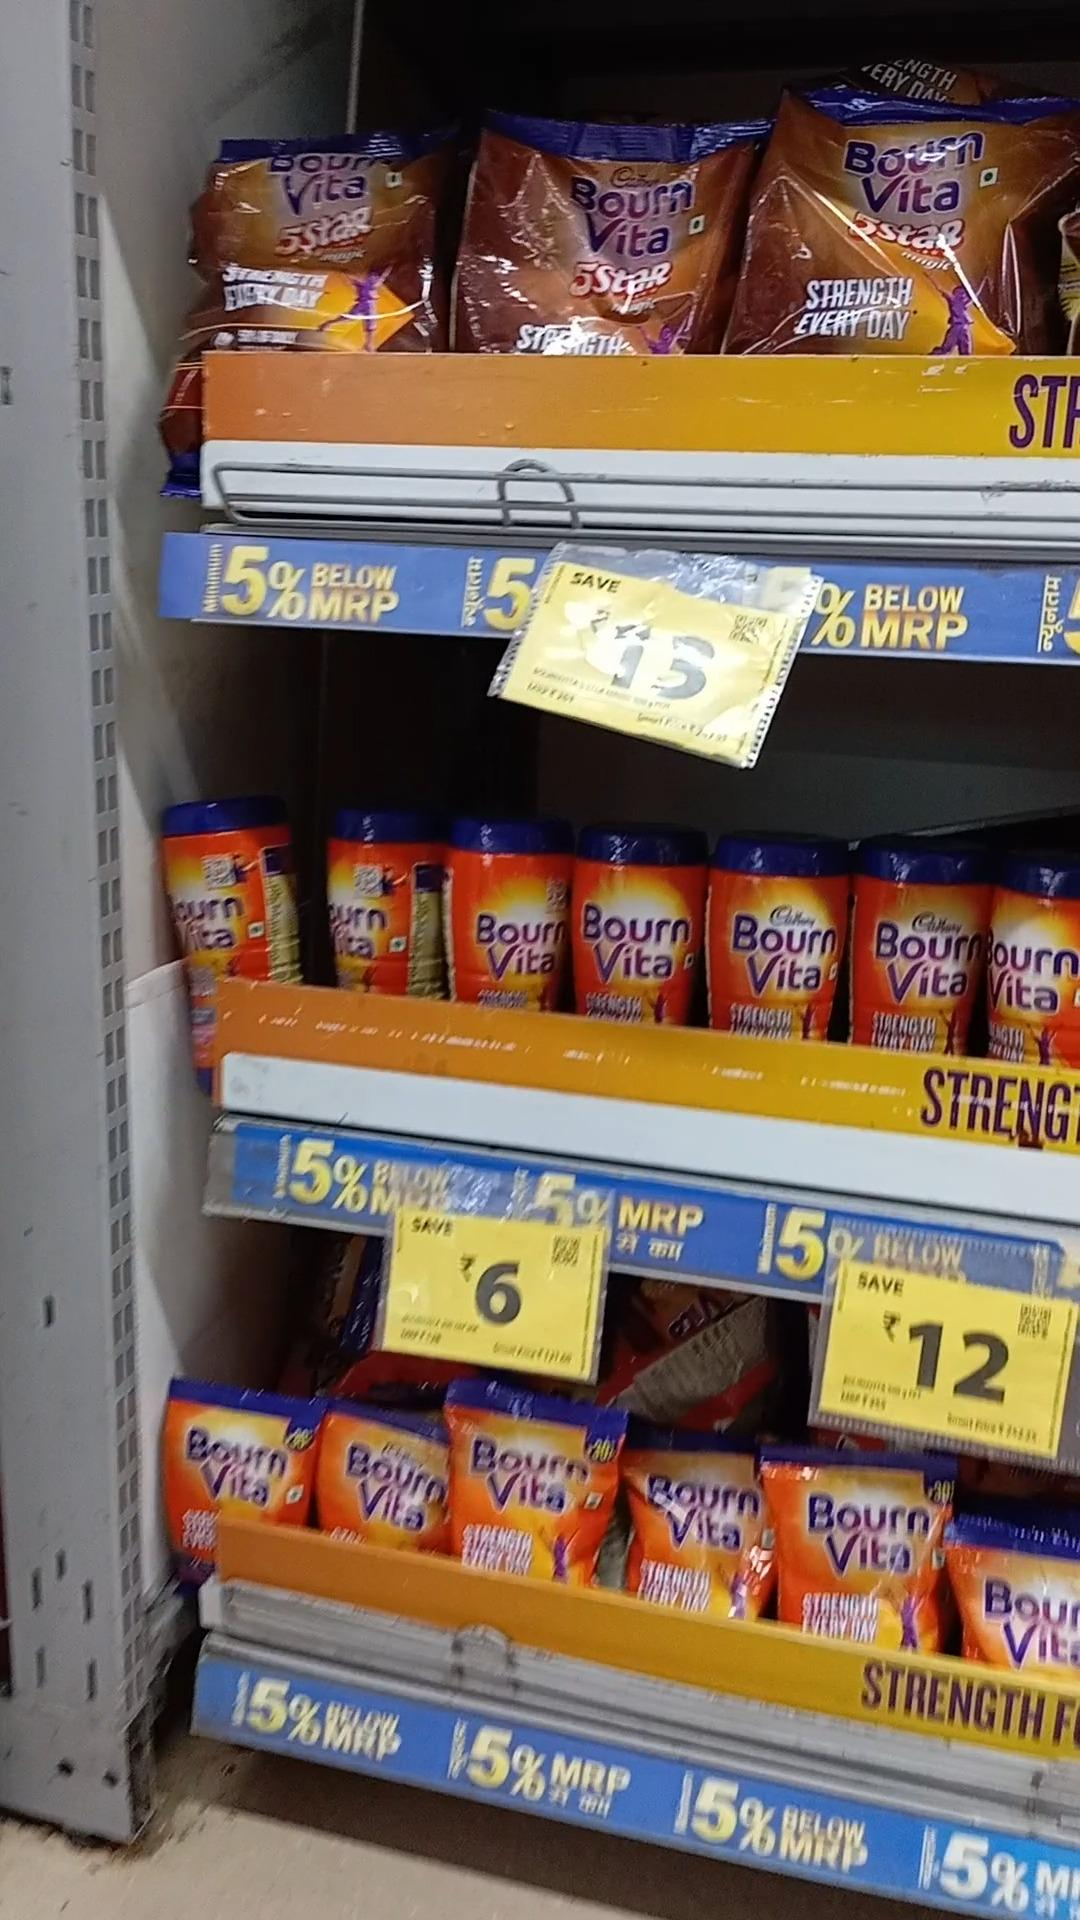BOURN_VITA_200_G_JAR: (713, 828, 845, 1035), (157, 803, 253, 1075), (858, 840, 981, 1052), (572, 828, 699, 1022), (463, 816, 568, 1013), (985, 857, 1080, 1064), (323, 810, 407, 996)
BOURN_VITA_75_G_POUCH: (774, 1458, 947, 1656), (450, 1393, 605, 1598), (629, 1427, 765, 1617), (166, 1387, 305, 1530), (315, 1402, 444, 1548)
BOURN_VITA_FIVE_STAR_MAGIC_500_G_POUCH: (758, 88, 1080, 367), (469, 116, 725, 356), (187, 128, 430, 363)
